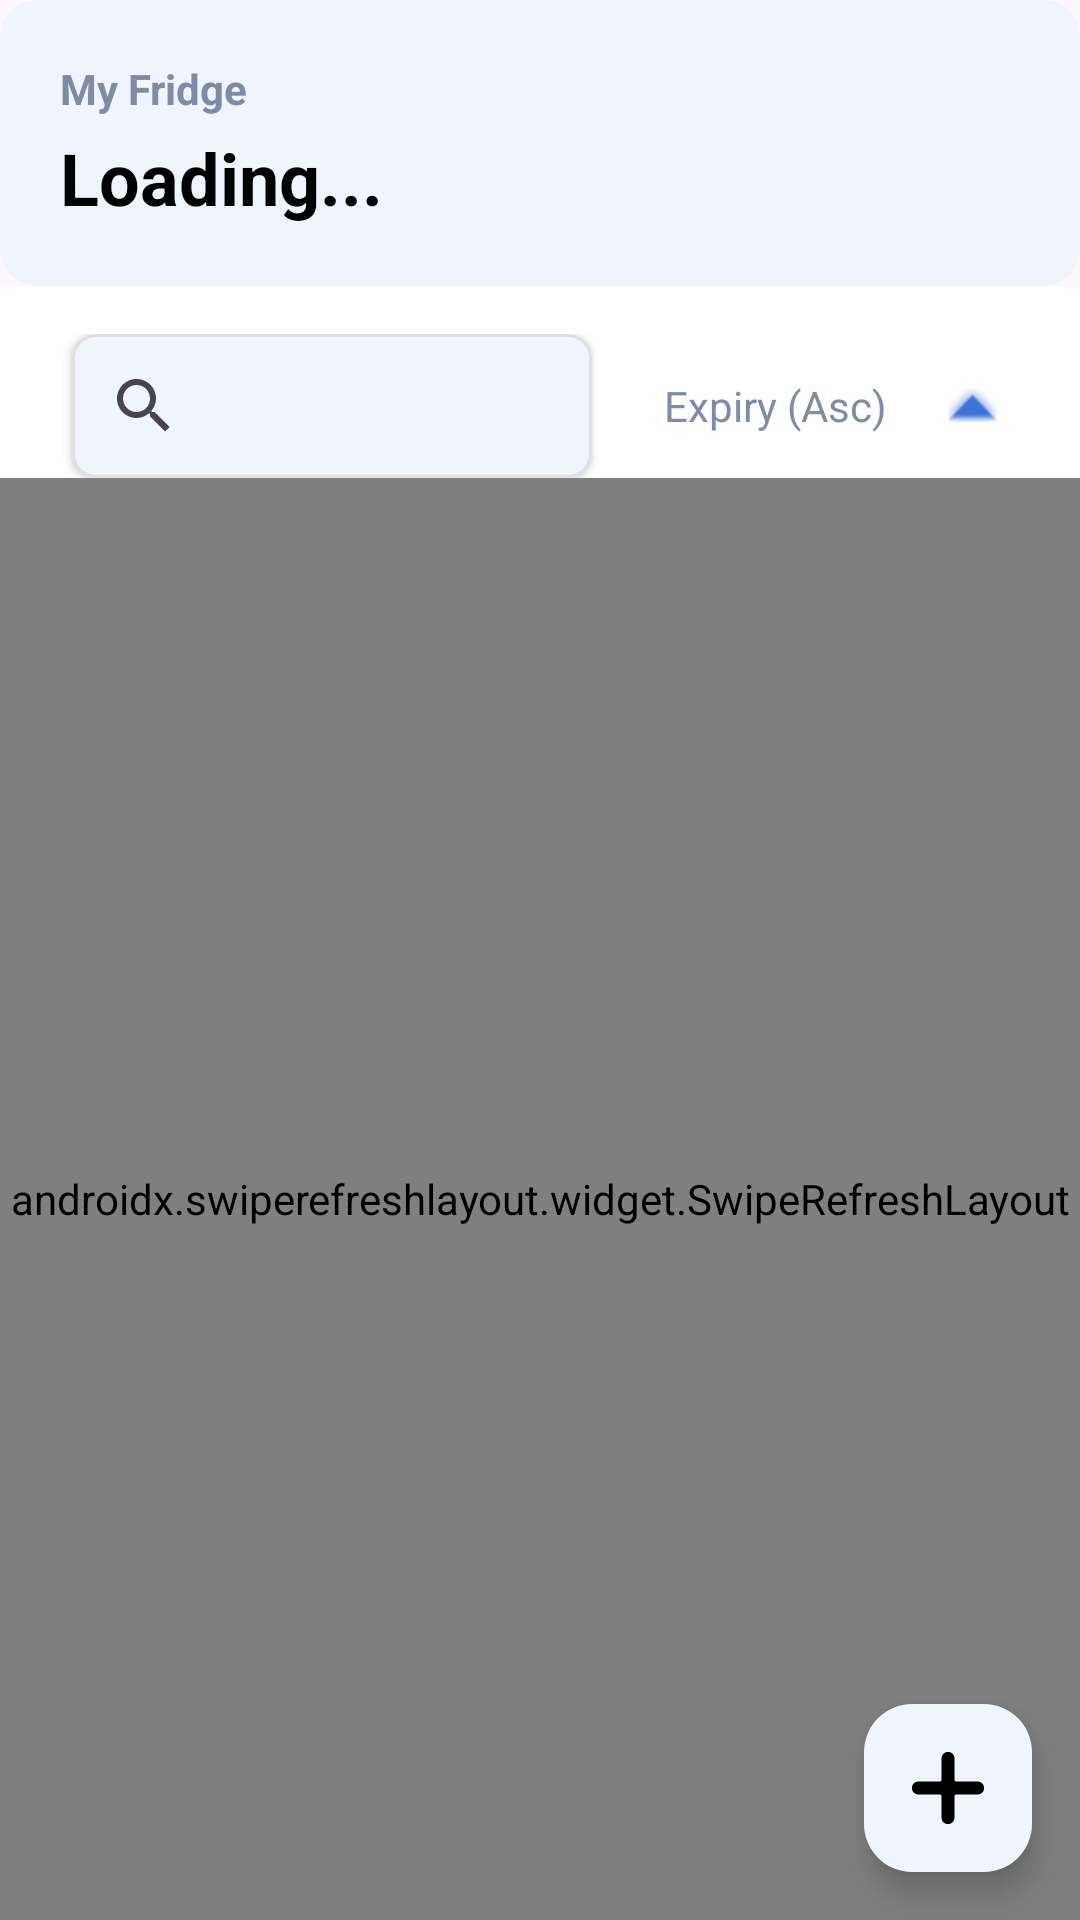

Where to tap for icons on this 1080 × 1920 app screen, as point (x, y):
Add item: point (948, 1788)
Sort by expiry: point (972, 406)
